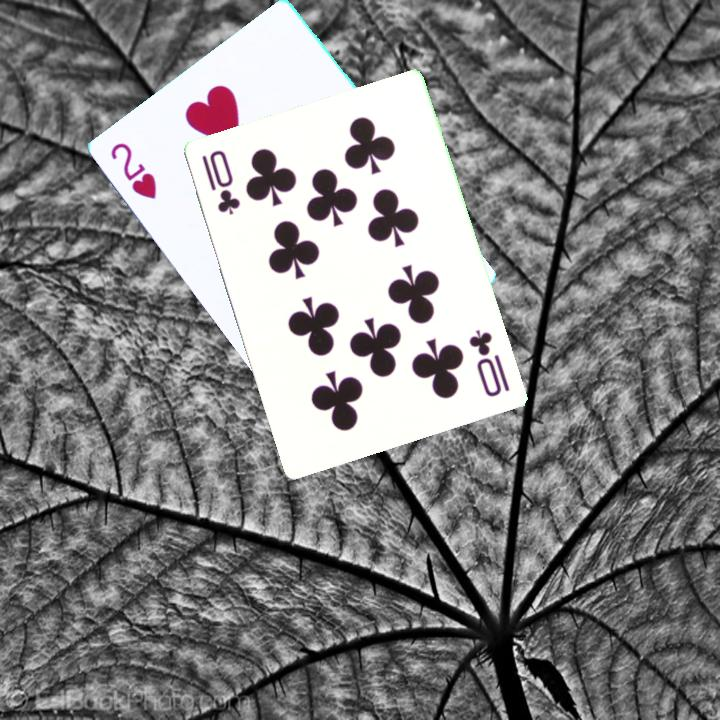10c: (466, 326, 513, 400), (199, 146, 244, 218)
2h: (107, 139, 161, 203)
